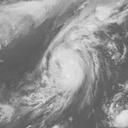cyclone: (40, 41, 99, 105)
